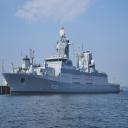Fragata: (1, 22, 122, 95)
